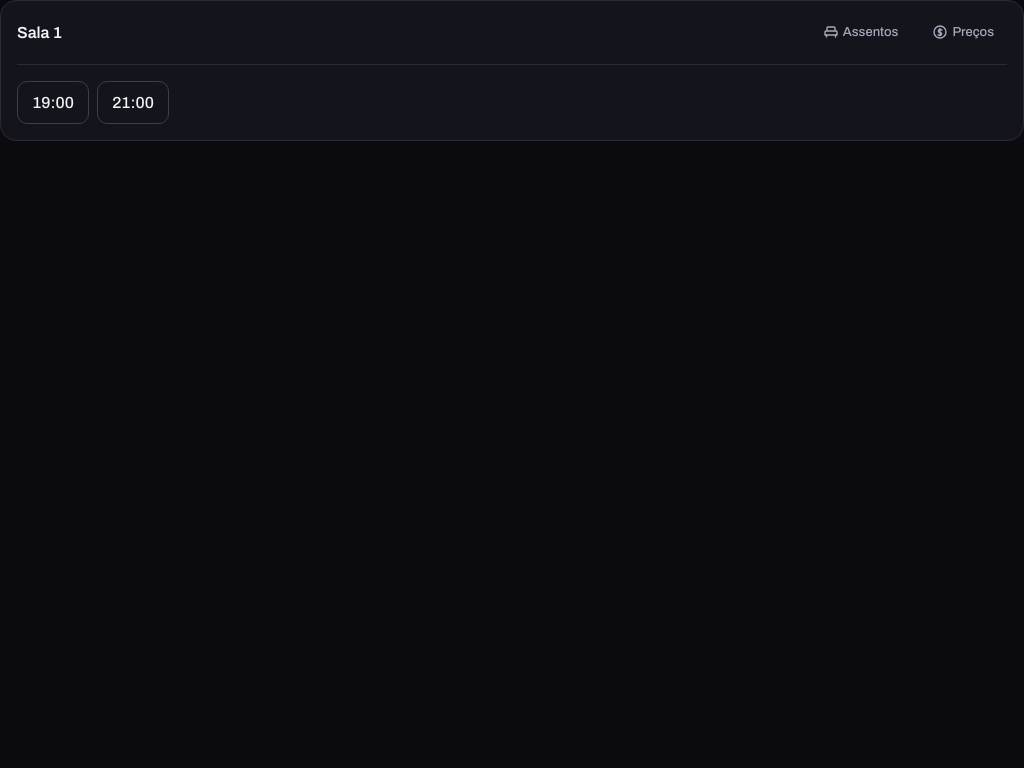
Test case: painel de assentos › A6 — falha vira mensagem em português, com a próxima ação
Click the button "Assentos" at (861, 32), box [810,17,912,48]
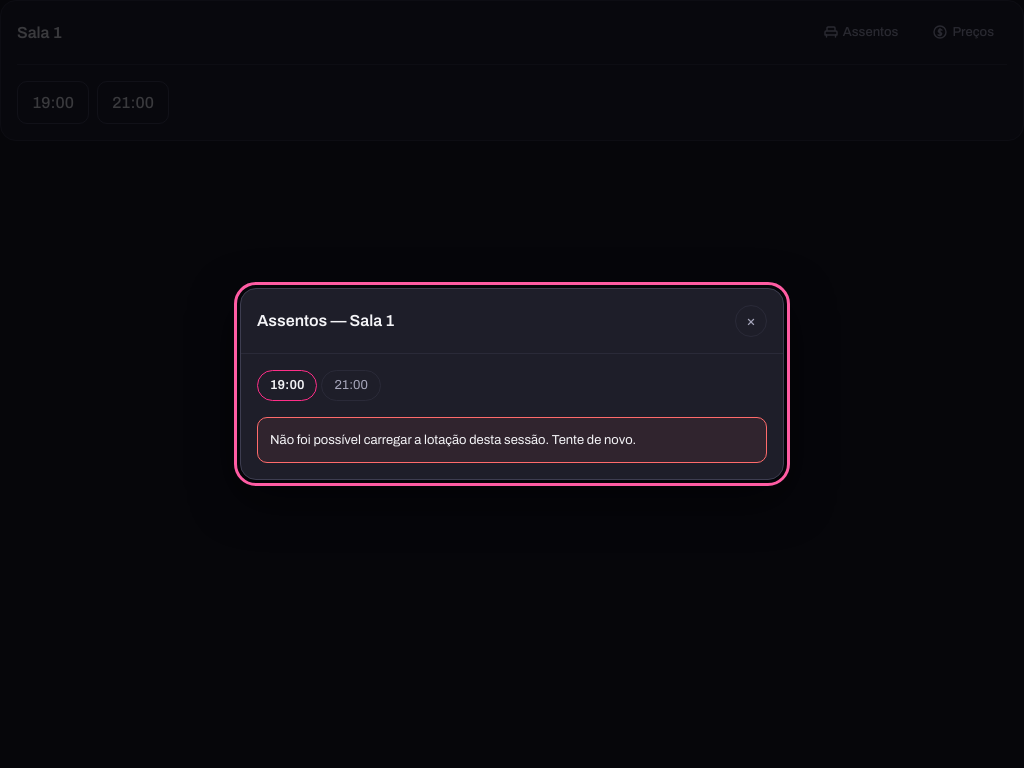
Check: the message shows "Não foi possível carregar a lotação", box [270,432,636,446]
Check: the message shows "Tente de novo", box [270,432,636,446]
